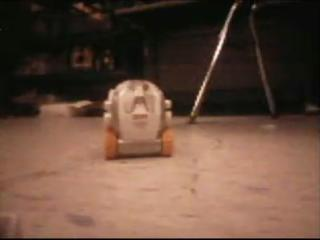cozmo: (101, 78, 174, 160)
